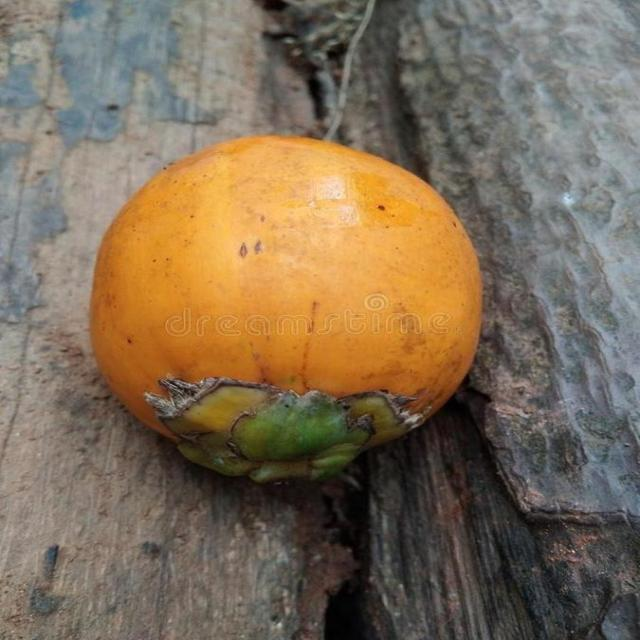good: (88, 135, 484, 486)
